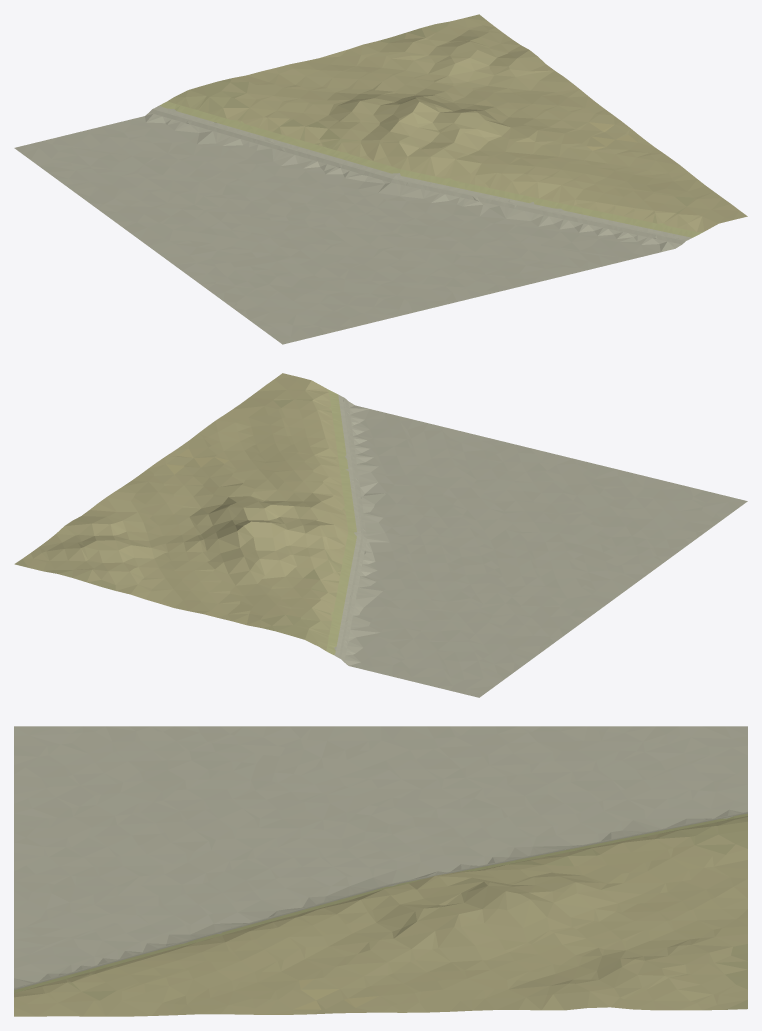
Rendered from Ground_-6_-7.glb.
3 renders of one model, top to bottom at view 1: azimuth 30°, elevation 25°; view 2: azimuth 150°, elevation 25°; view 3: azimuth 270°, elevation 25°, orthographic. The views are drawn at different scales.
Visible parts, largest first — view 1: Ground_-6_-7; view 2: Ground_-6_-7; view 3: Ground_-6_-7.
Boxes of the visible parts, x1,y1,x2,y2 form: Ground_-6_-7: (14, 14, 747, 344); Ground_-6_-7: (14, 373, 747, 697); Ground_-6_-7: (14, 726, 747, 1016).
Bounding box in the file's own units: 768 × 53.54 × 768.
